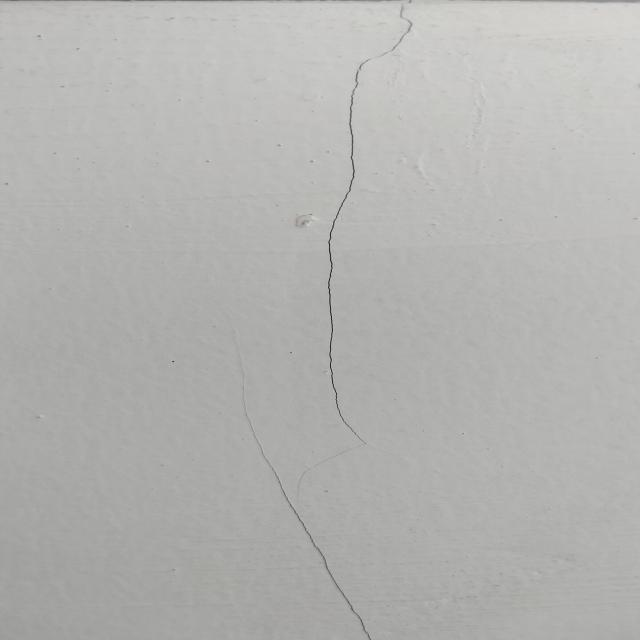Crack: (297, 0, 461, 438), (246, 426, 374, 639)
